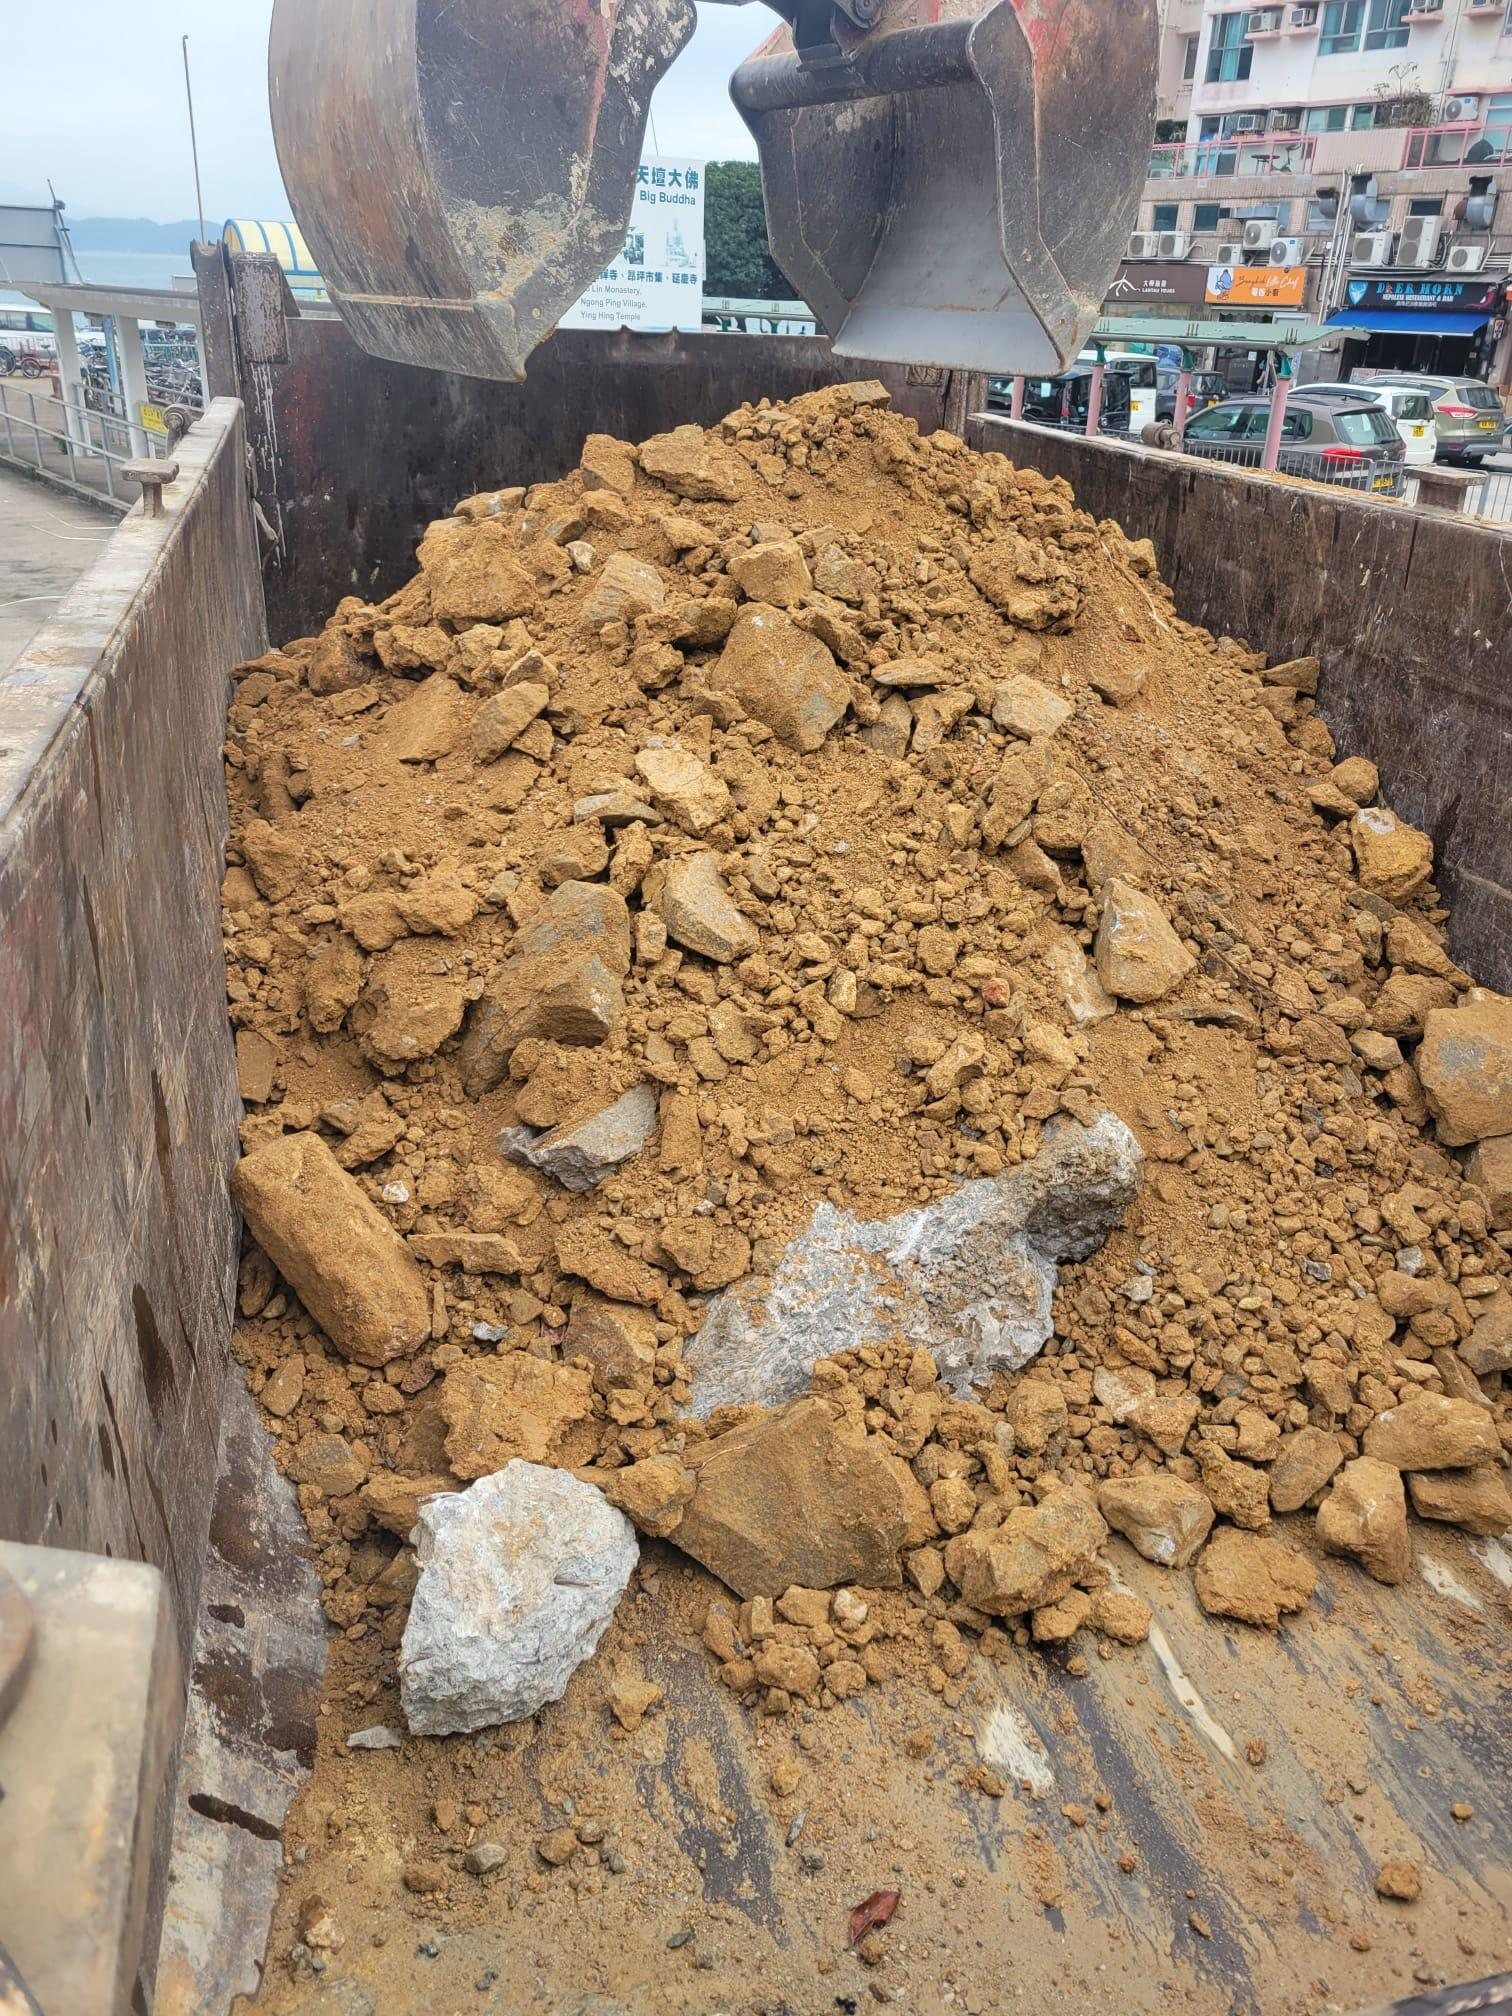dry: (273, 421, 1474, 1676)
